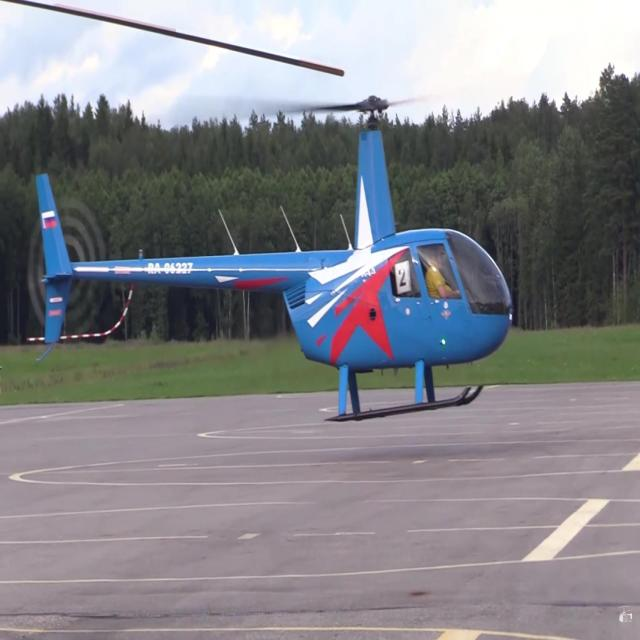CIV_HELO: (36, 94, 516, 424)
